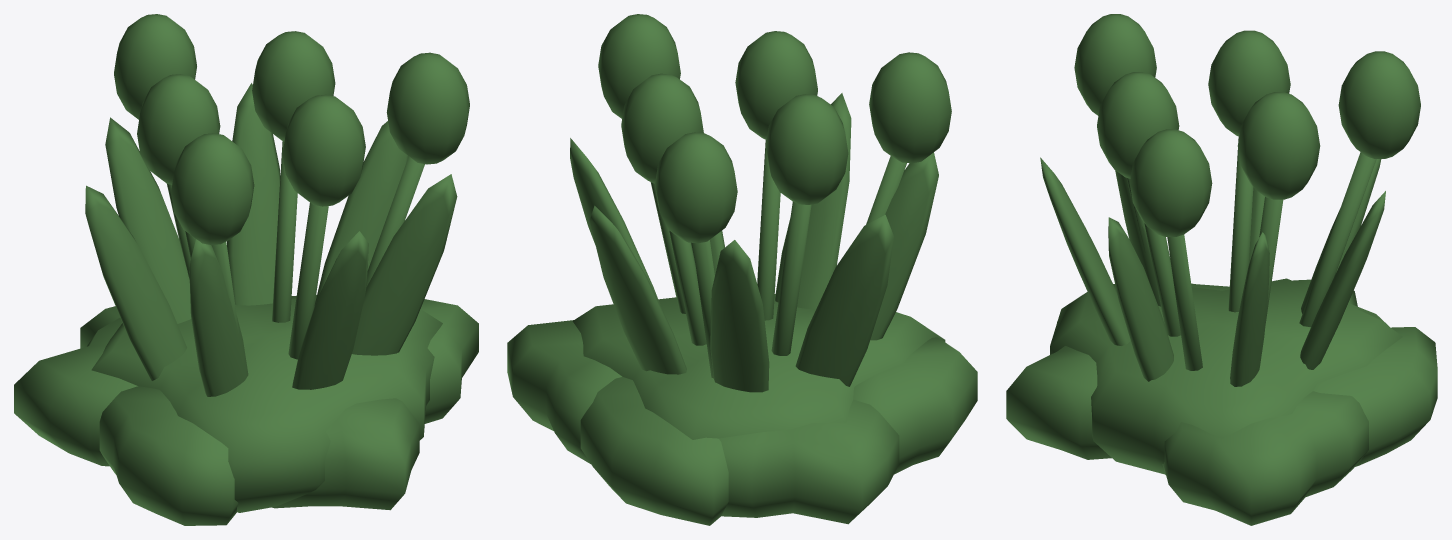
Rendered from flowers_14.glb.
3 views of the same model, side by side, from view 1: azimuth 30°, elevation 25°; view 2: azimuth 150°, elevation 25°; view 3: azimuth 270°, elevation 25° (orthographic). The views are drawn at different scales.
Parts seen in each view (by area): view 1: Tint, Ground foliage.066, Ground foliage.069, Ground foliage.068, Tulip leaf.001, Ground foliage.070, Tulip leaf.005, Tulip leaf.004, Tulip leaf.003, Tulip leaf, Tulip leaf.006, Tulip leaf.002 (+2 smaller); view 2: Tint, Ground foliage.066, Ground foliage.070, Ground foliage.071, Ground foliage.069, Tulip leaf.005, Ground foliage.067, Tulip leaf.004, Tulip leaf.003, Tulip leaf.006, Tulip leaf, Tulip leaf.002; view 3: Tint, Ground foliage.066, Ground foliage.067, Ground foliage.071, Ground foliage.068, Tulip leaf.001, Tulip leaf, Tulip leaf.003, Tulip leaf.002, Tulip leaf.006, Tulip leaf.004, Tulip leaf.005.
Part boxes in pixels (x1,y1,x2,y2): Tint: (114, 14, 469, 359); Ground foliage.066: (91, 297, 442, 512); Ground foliage.069: (99, 386, 238, 525); Ground foliage.068: (272, 398, 419, 510); Tulip leaf.001: (352, 174, 457, 355); Ground foliage.070: (14, 318, 137, 466); Tulip leaf.005: (85, 185, 186, 380); Tulip leaf.004: (105, 117, 191, 323); Tulip leaf.003: (227, 83, 280, 305); Tulip leaf: (292, 231, 368, 389); Tulip leaf.006: (189, 239, 248, 396); Tulip leaf.002: (314, 121, 408, 305); Tint: (598, 14, 951, 378); Ground foliage.066: (572, 294, 945, 439); Ground foliage.070: (719, 399, 899, 524); Ground foliage.071: (580, 377, 728, 525); Ground foliage.069: (853, 337, 977, 474); Tulip leaf.005: (795, 214, 893, 386); Ground foliage.067: (507, 320, 622, 463); Tulip leaf.004: (710, 240, 769, 392); Tulip leaf.003: (589, 205, 686, 374); Tulip leaf.006: (870, 152, 938, 340); Tulip leaf: (775, 93, 851, 309); Tulip leaf.002: (570, 138, 661, 307); Tint: (1074, 14, 1420, 370); Ground foliage.066: (1050, 278, 1402, 474); Ground foliage.067: (1162, 391, 1368, 525); Ground foliage.071: (1313, 327, 1437, 466); Ground foliage.068: (1006, 346, 1111, 459); Tulip leaf.001: (1108, 217, 1173, 381); Tulip leaf: (1040, 157, 1130, 345); Tulip leaf.003: (1300, 191, 1385, 369); Tulip leaf.002: (1230, 232, 1269, 386); Tulip leaf.006: (1115, 170, 1160, 306); Tulip leaf.004: (1301, 159, 1381, 313); Tulip leaf.005: (1248, 187, 1264, 265).
Bounding box in the file's own units: 0.5 × 0.4463 × 0.4693.
